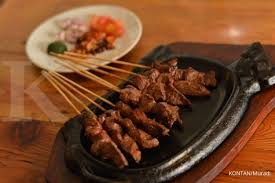sate: (78, 53, 220, 168)
